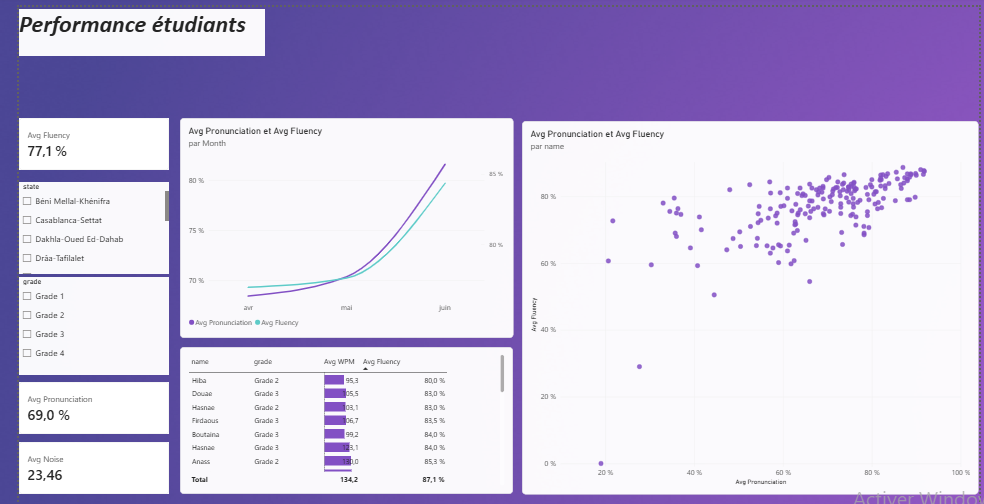

What the dashboard file says about the page in this screenshot:
{"tool":"powerbi","page":{"name":"Performance étudiants","canvas":[1920,1080],"ordinal":1},"visuals":[{"type":"lineChart","fields":{"Category":["Calendar.Month"],"Y":["performance_metrics.Avg Pronunciation"],"Y2":["performance_metrics.Avg Fluency"]},"box":[322,222,666.7,440],"z":0},{"type":"cardVisual","fields":{"Data":["performance_metrics.Avg Fluency"]},"box":[0,222,300,104],"z":1000},{"type":"cardVisual","fields":{"Data":["performance_metrics.Avg Pronunciation"]},"box":[0,750,300,104],"z":2000},{"type":"scatterChart","fields":{"Category":["student_details.name"],"X":["performance_metrics.Avg Pronunciation"],"Y":["performance_metrics.Avg Fluency"]},"box":[1006,228,913.3,746.7],"z":2001},{"type":"cardVisual","fields":{"Data":["performance_metrics.Avg Noise"]},"box":[0,870,300,104],"z":2002},{"type":"slicer","fields":{"Values":["form_responces.state"]},"box":[0,350,300,184],"z":2003},{"type":"slicer","fields":{"Values":["student_details.grade"]},"box":[0,540,300,196],"z":2004},{"type":"tableEx","fields":{"Values":["student_details.name","student_details.grade","performance_metrics.Avg WPM","performance_metrics.Avg Fluency"]},"box":[322,680,666,294],"z":2005},{"type":"textbox","box":[0,4,492,94],"z":2006}]}

Visuals, with their boxes on the page's 1920x1080 design canvas (x1, y1, x2, y2). These are canvas units, not pixel positions in the 984x504 screenshot, which may show the page scaled, cropped or inside an application window:
lineChart - Calendar.Month x performance_metrics.Avg Pronunciation: (322,222,989,662)
cardVisual - performance_metrics.Avg Fluency: (0,222,300,326)
cardVisual - performance_metrics.Avg Pronunciation: (0,750,300,854)
scatterChart - student_details.name x performance_metrics.Avg Pronunciation: (1006,228,1919,975)
cardVisual - performance_metrics.Avg Noise: (0,870,300,974)
slicer - form_responces.state: (0,350,300,534)
slicer - student_details.grade: (0,540,300,736)
tableEx - student_details.name x student_details.grade: (322,680,988,974)
textbox: (0,4,492,98)
